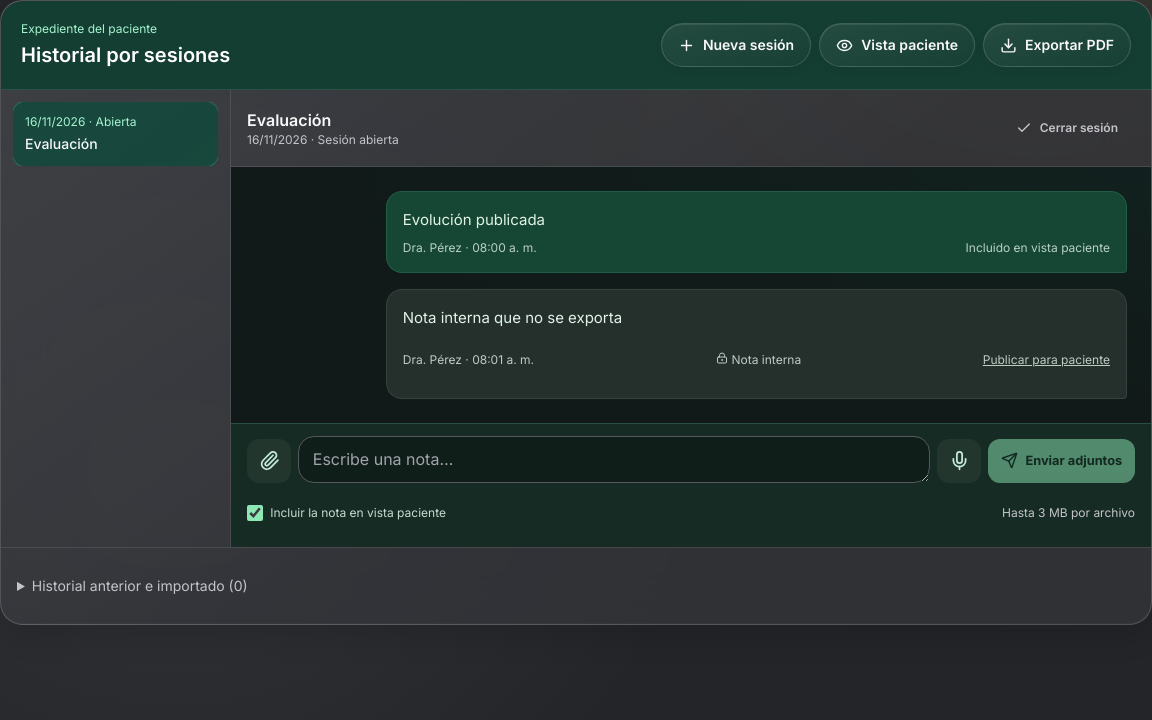
Test case: la nota de voz requiere envío explícito y se puede escuchar, descargar o reintentar si falla
Click the button named "Grabar audio": (959, 461) [937, 439, 981, 483]
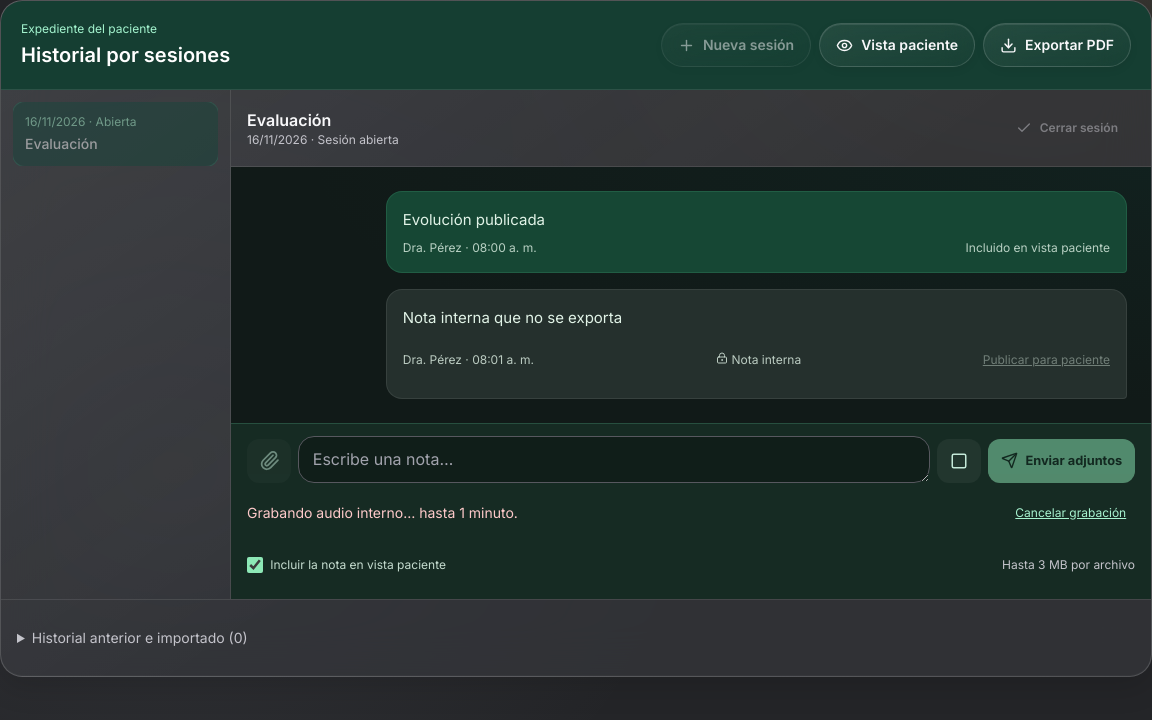
Expected: the text "Grabando audio interno… hasta 1 minuto." is shown, [247, 503, 518, 523]
Click the button named "Detener grabación": (959, 461) [937, 439, 981, 483]
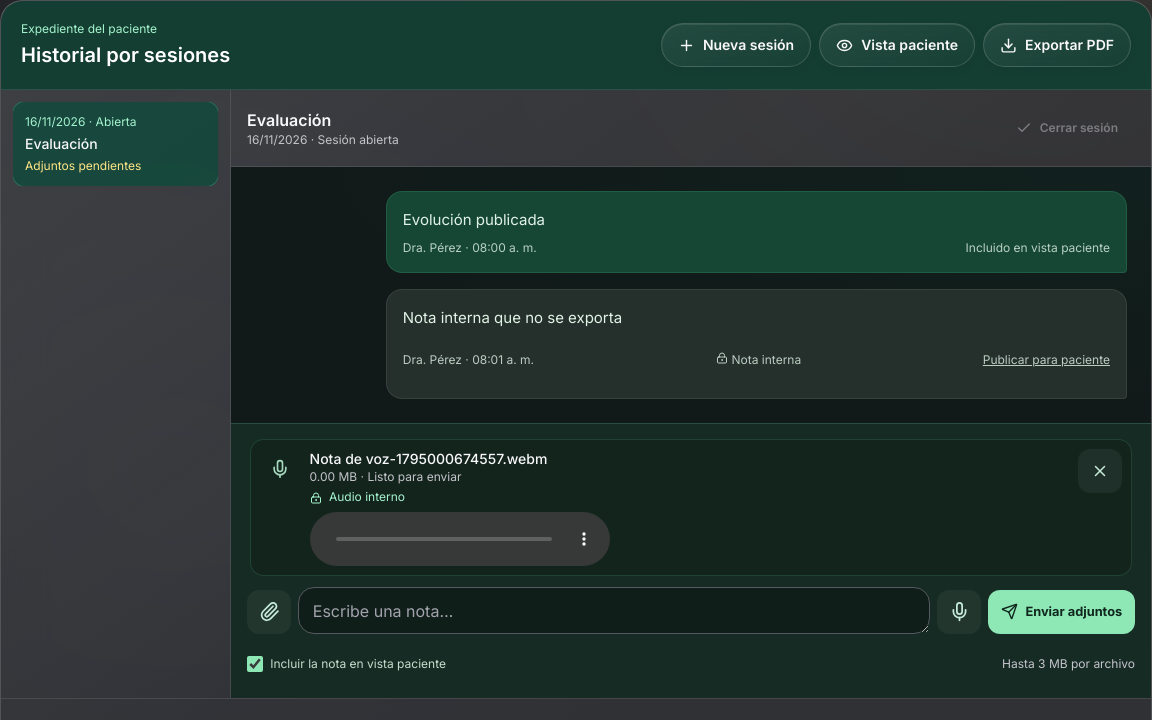
Expected: the text "Audio interno" is shown, [310, 489, 405, 504]
Click the button "Enviar adjuntos": (1062, 612) [988, 590, 1135, 634]
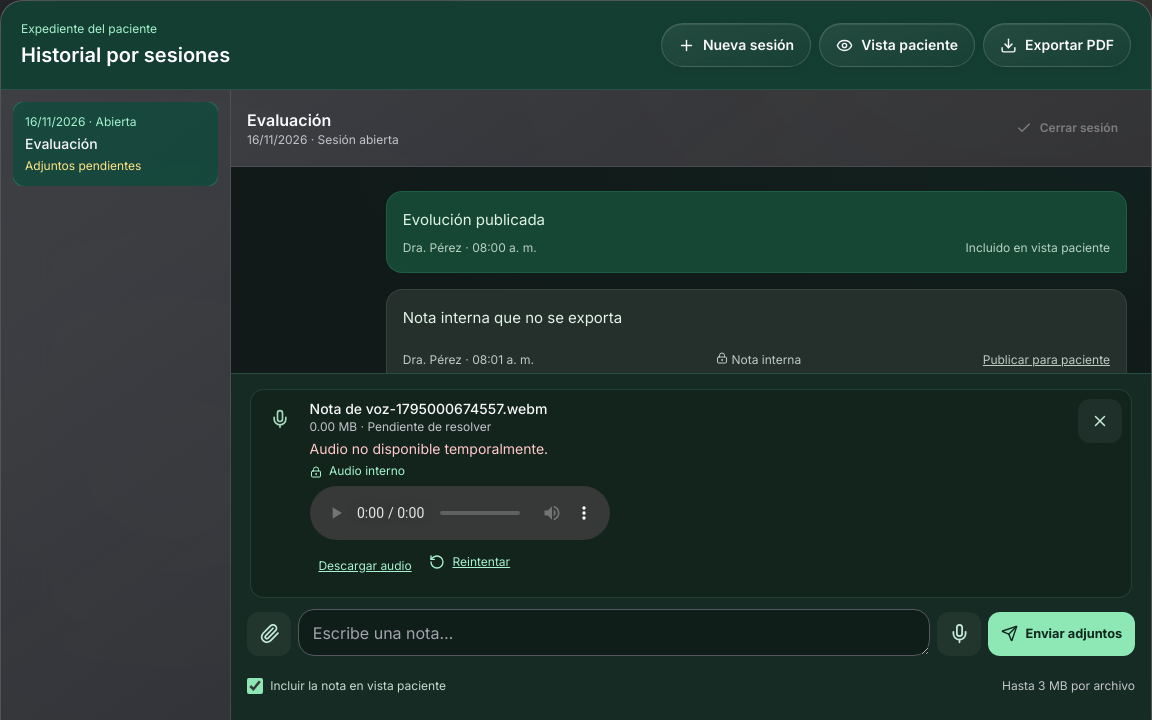
Expected: the text "Audio no disponible temporalmente." is shown, [310, 440, 548, 457]
Click the button with aria-label "Reintentar Nota de voz": (470, 562) [420, 540, 519, 584]
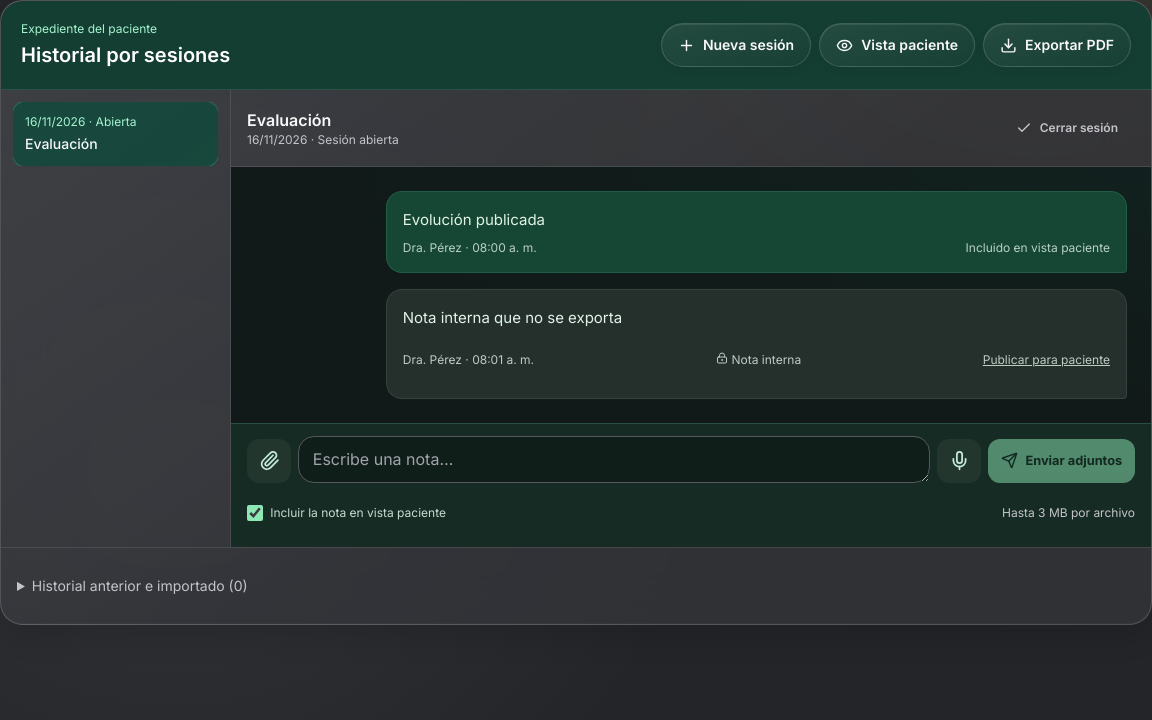
Expected: the text "Adjuntos pendientes" is gone
